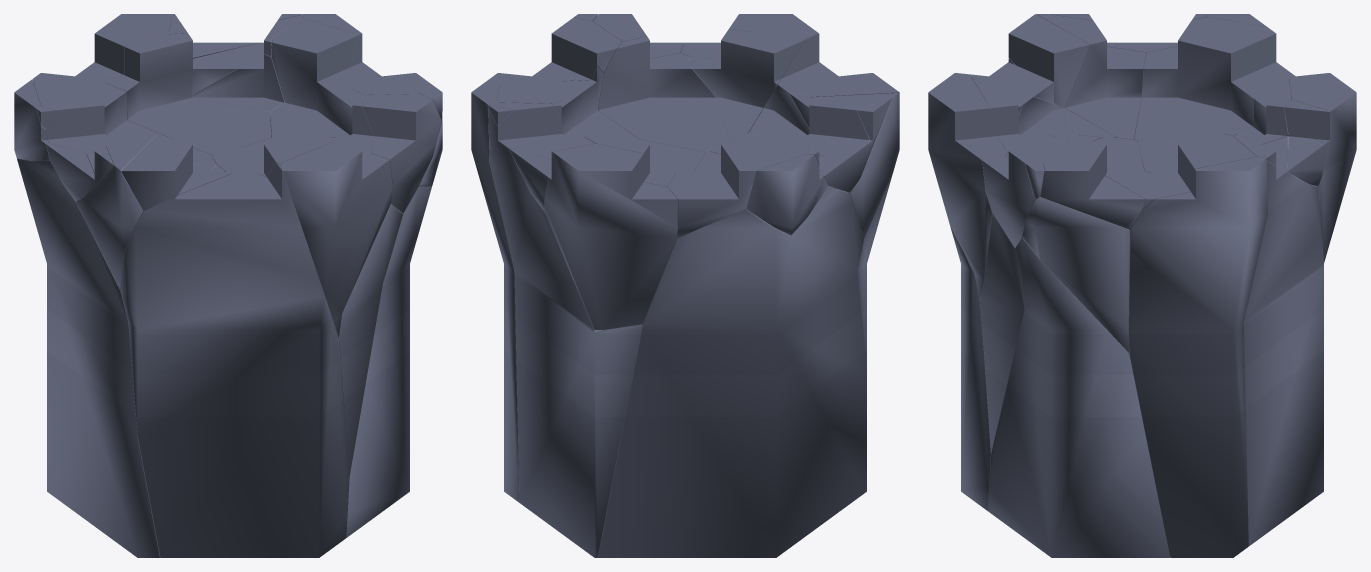
File: unit-wall-tower-pieces.glb
3 views of the same model, side by side, from view 1: azimuth 30°, elevation 25°; view 2: azimuth 150°, elevation 25°; view 3: azimuth 270°, elevation 25° (orthographic).
Visible parts, largest first — view 1: unit-wall-tower_cell.003, unit-wall-tower_cell.017, unit-wall-tower_cell.006, unit-wall-tower_cell.001, unit-wall-tower_cell.013, unit-wall-tower_cell.010, unit-wall-tower_cell.004, unit-wall-tower_cell.018, unit-wall-tower_cell.002, unit-wall-tower_cell.016, unit-wall-tower_cell.015, unit-wall-tower_cell.008 (+8 smaller); view 2: unit-wall-tower_cell.017, unit-wall-tower_cell.015, unit-wall-tower_cell.005, unit-wall-tower_cell.004, unit-wall-tower_cell.018, unit-wall-tower_cell.014, unit-wall-tower_cell.016, unit-wall-tower_cell, unit-wall-tower_cell.003, unit-wall-tower_cell.010, unit-wall-tower_cell.020, unit-wall-tower_cell.007 (+6 smaller); view 3: unit-wall-tower_cell, unit-wall-tower_cell.006, unit-wall-tower_cell.015, unit-wall-tower_cell.018, unit-wall-tower_cell.001, unit-wall-tower_cell.012, unit-wall-tower_cell.003, unit-wall-tower_cell.004, unit-wall-tower_cell.016, unit-wall-tower_cell.005, unit-wall-tower_cell.007, unit-wall-tower_cell.008 (+6 smaller).
Part boxes in pixels (x1,y1,x2,y2): unit-wall-tower_cell.003: (120, 162, 349, 557); unit-wall-tower_cell.017: (17, 158, 160, 557); unit-wall-tower_cell.006: (346, 186, 431, 537); unit-wall-tower_cell.001: (280, 140, 392, 337); unit-wall-tower_cell.013: (104, 33, 271, 157); unit-wall-tower_cell.010: (270, 18, 379, 137); unit-wall-tower_cell.004: (213, 89, 402, 475); unit-wall-tower_cell.018: (32, 73, 212, 161); unit-wall-tower_cell.002: (362, 94, 441, 213); unit-wall-tower_cell.016: (76, 131, 216, 290); unit-wall-tower_cell.015: (191, 15, 302, 116); unit-wall-tower_cell.008: (121, 135, 232, 211); unit-wall-tower_cell.017: (598, 186, 866, 557); unit-wall-tower_cell.015: (488, 102, 642, 557); unit-wall-tower_cell.005: (544, 143, 677, 332); unit-wall-tower_cell.004: (598, 36, 729, 151); unit-wall-tower_cell.018: (667, 131, 823, 238); unit-wall-tower_cell.014: (688, 29, 805, 140); unit-wall-tower_cell.016: (710, 93, 899, 238); unit-wall-tower_cell: (471, 73, 519, 502); unit-wall-tower_cell.003: (748, 34, 891, 368); unit-wall-tower_cell.010: (496, 66, 639, 141); unit-wall-tower_cell.020: (746, 154, 828, 235); unit-wall-tower_cell.007: (532, 17, 622, 81); unit-wall-tower_cell: (1128, 157, 1267, 557); unit-wall-tower_cell.006: (988, 238, 1169, 557); unit-wall-tower_cell.015: (1232, 134, 1323, 545); unit-wall-tower_cell.018: (1134, 17, 1295, 142); unit-wall-tower_cell.001: (928, 73, 1007, 299); unit-wall-tower_cell.012: (1022, 197, 1129, 352); unit-wall-tower_cell.003: (950, 58, 1077, 510); unit-wall-tower_cell.004: (980, 131, 1144, 453); unit-wall-tower_cell.016: (1036, 14, 1146, 139); unit-wall-tower_cell.005: (1289, 73, 1356, 265); unit-wall-tower_cell.007: (1040, 139, 1145, 229); unit-wall-tower_cell.008: (1008, 14, 1116, 137).
Bounding box in the file's own units: 1.77 × 2.1 × 2.04.
1 material, 1 textured.
